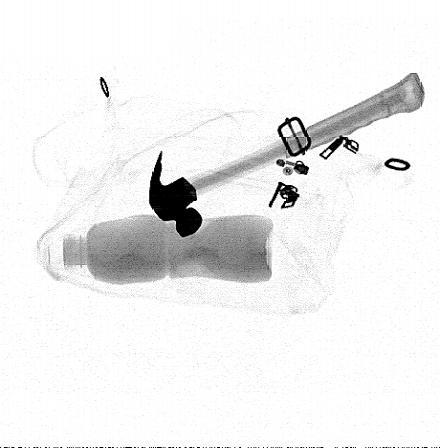Hammer: (148, 72, 426, 239)
